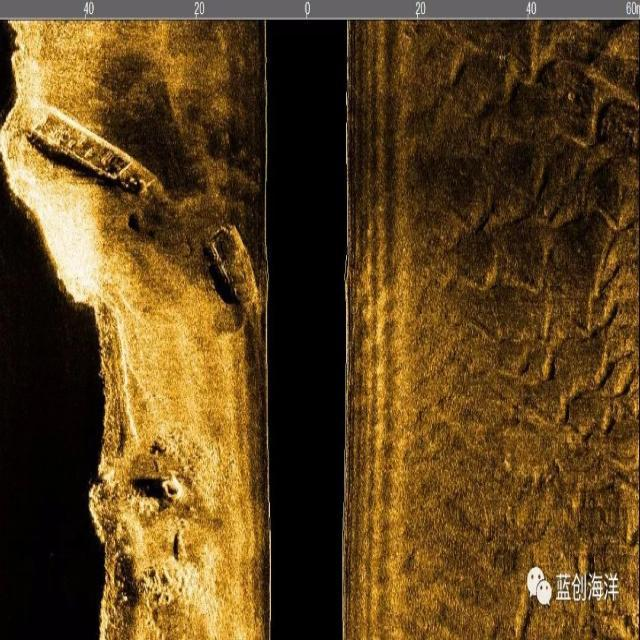shipwreck: (28, 93, 262, 330)
